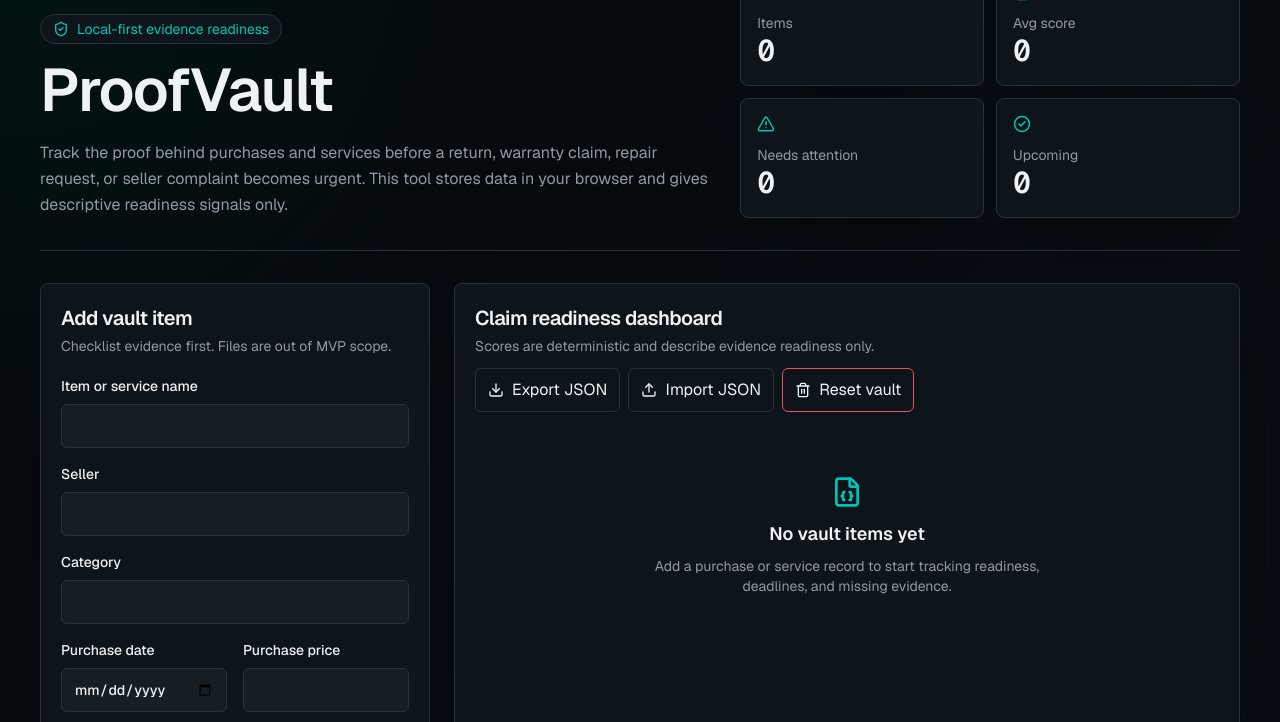
Test: ProofVaultApp › adds an item and updates the dashboard
Type "Bluetooth speaker" into the field labelled "Item or service name".
click(235, 426); type("Bluetooth speaker")  # box [61,404,409,448]
Type "Nada Audio Store" into the field labelled "Seller".
click(235, 514); type("Nada Audio Store")  # box [61,492,409,536]
Type "2026-06-20" into the date field labelled "Purchase date".
click(144, 690); type("2026-06-20")  # box [61,668,227,712]
(page scrolled)
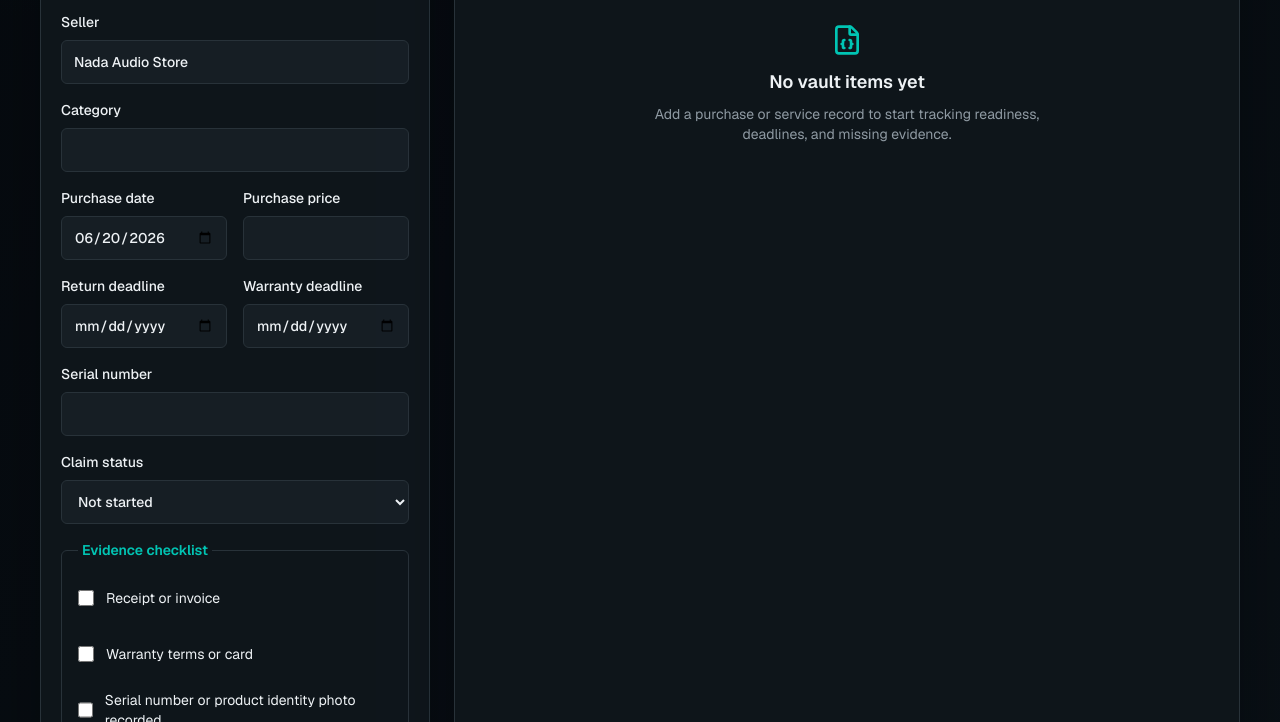
Type "2026-06-30" into the date field labelled "Return deadline".
click(144, 326); type("2026-06-30")  # box [61,304,227,348]
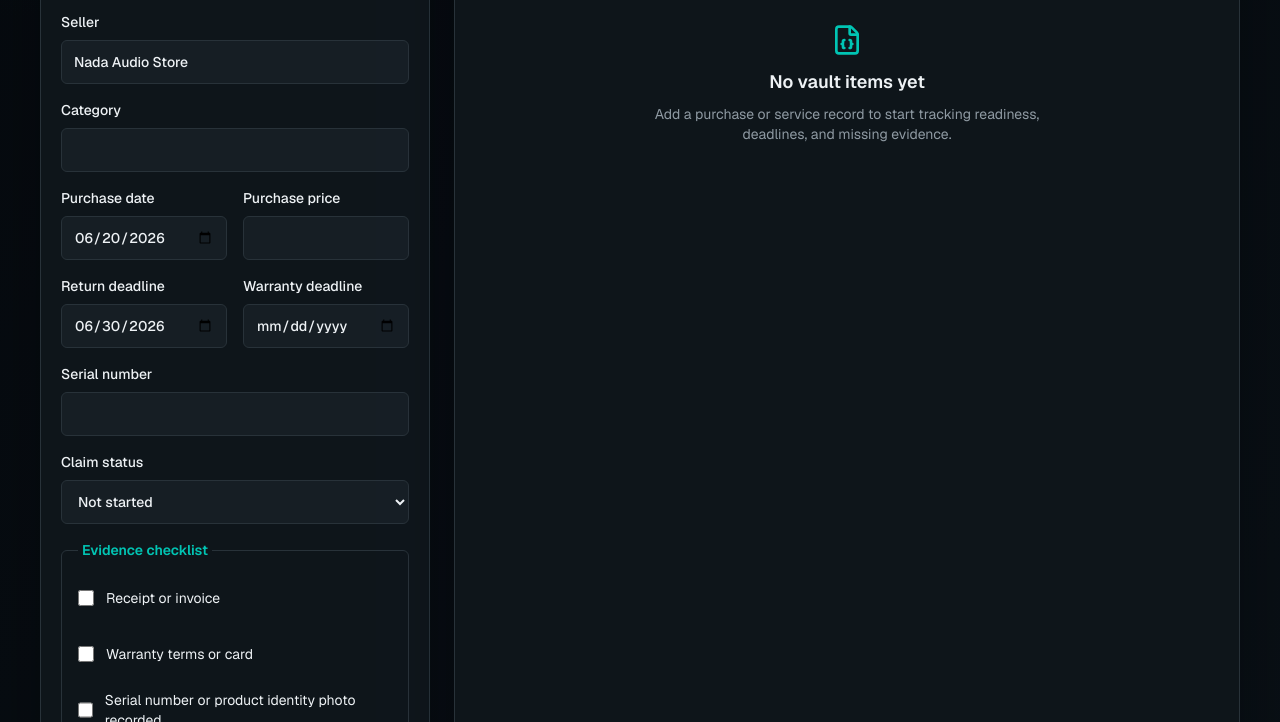
Type "2027-06-20" into the date field labelled "Warranty deadline".
click(326, 326); type("2027-06-20")  # box [243,304,409,348]
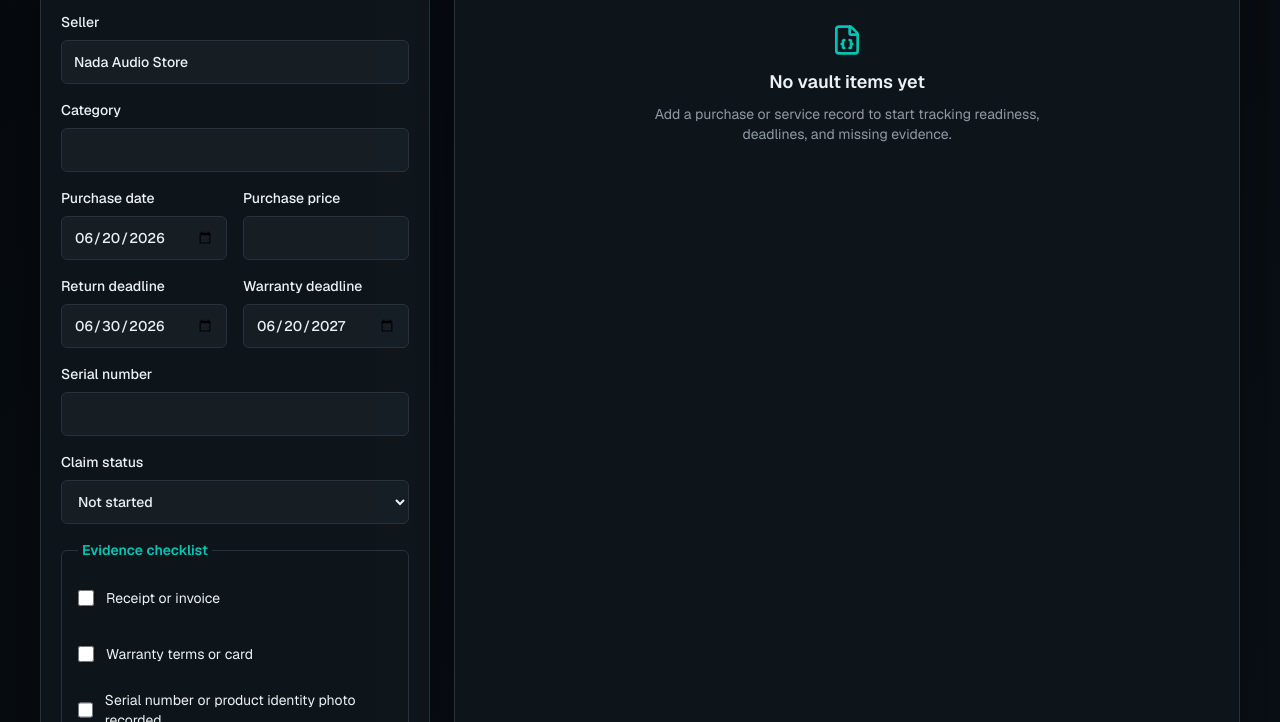
Click the checkbox labelled "Receipt or invoice".
click(86, 598)  # box [78,590,94,606]
(page scrolled)
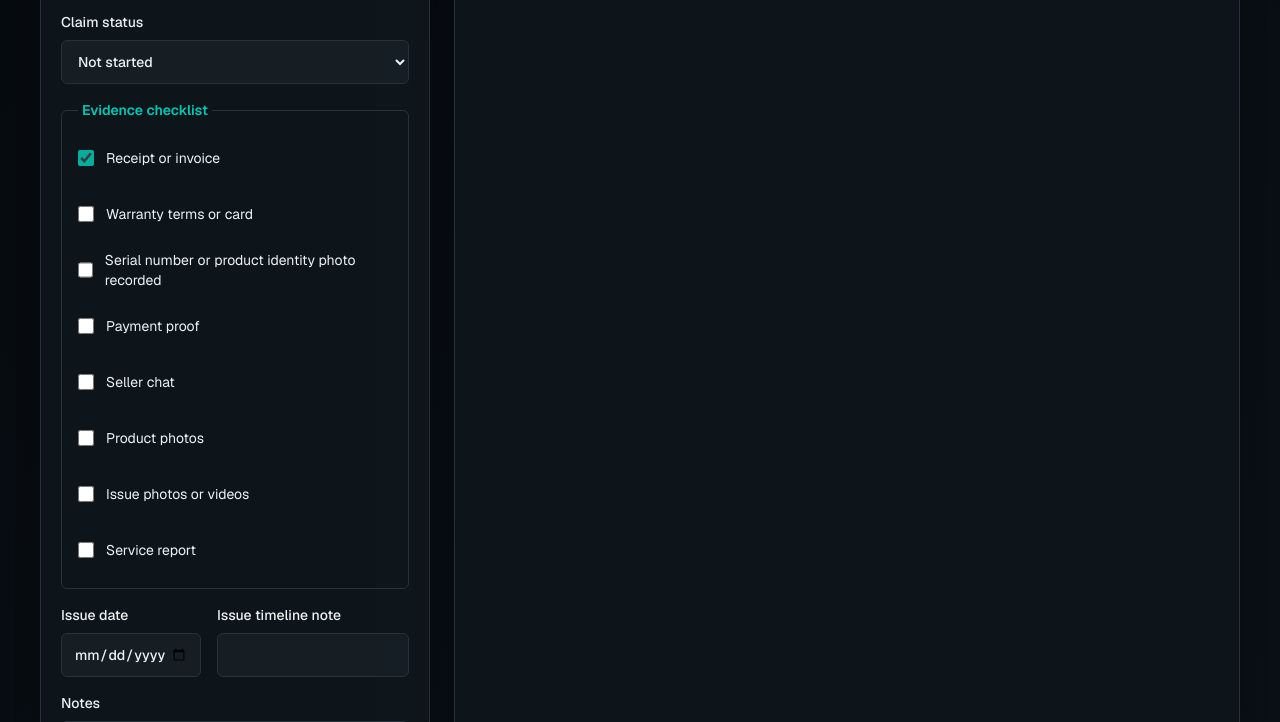
Click the checkbox labelled "Payment proof".
click(86, 326)  # box [78,318,94,334]
(page scrolled)
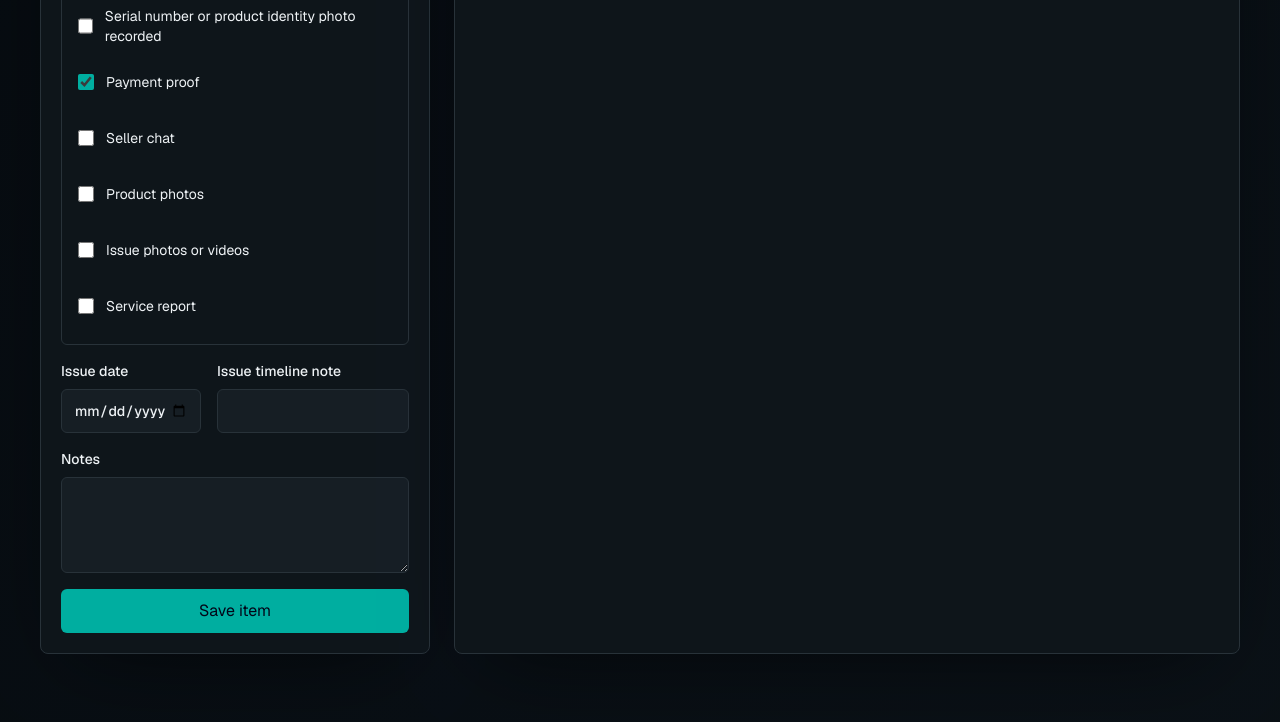
Click the button "Save item".
click(235, 611)  # box [61,589,409,633]
(page scrolled)
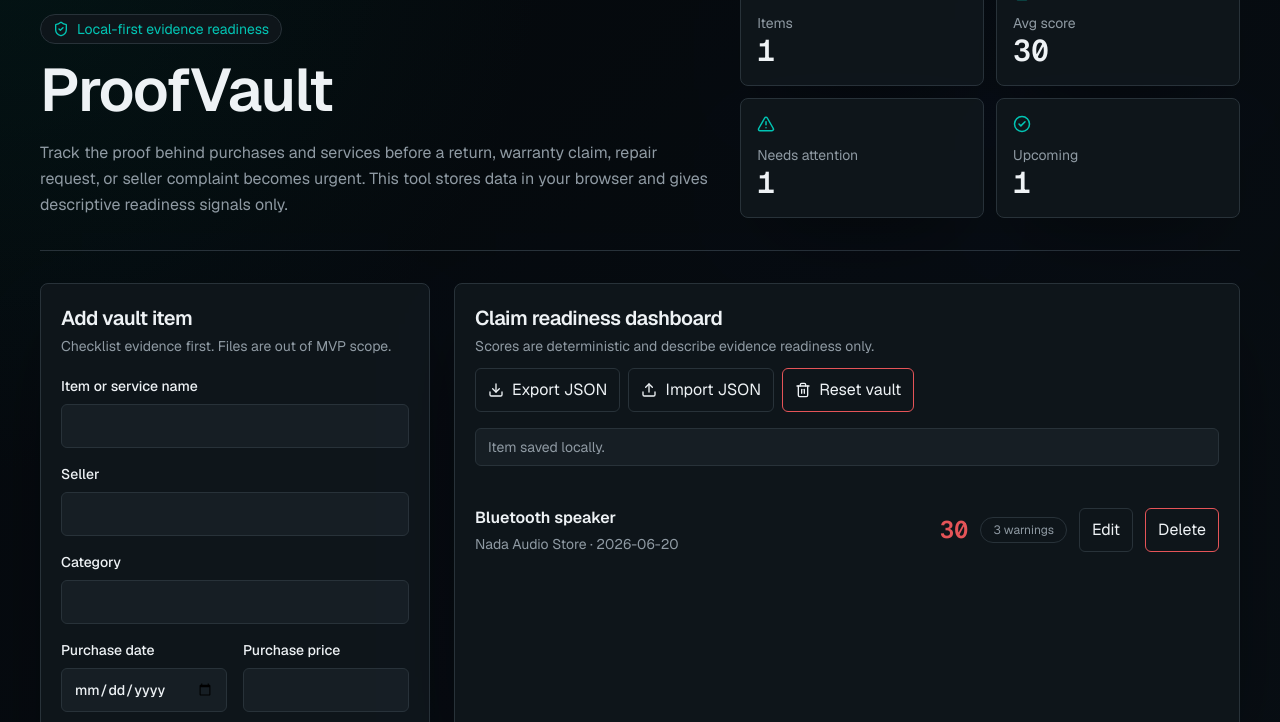
Check: the number of headings "Bluetooth speaker" is 2
Check: the 1st text "1" is shown, box [757,31,775,70]
